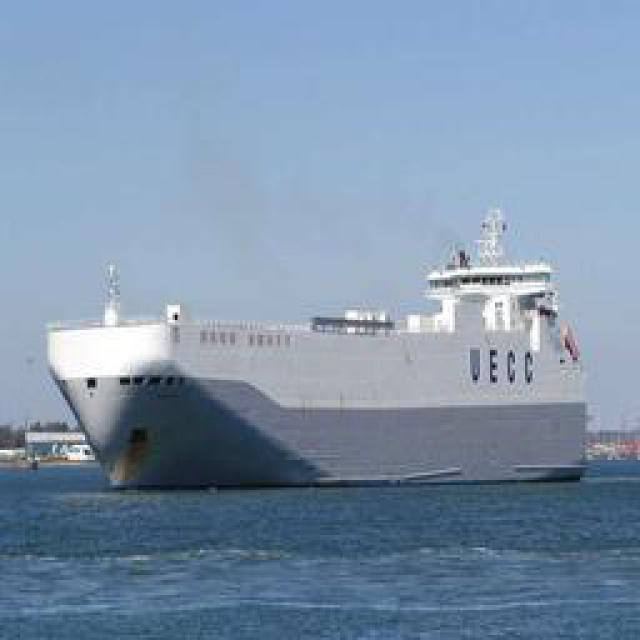Ship: (52, 204, 595, 494)
